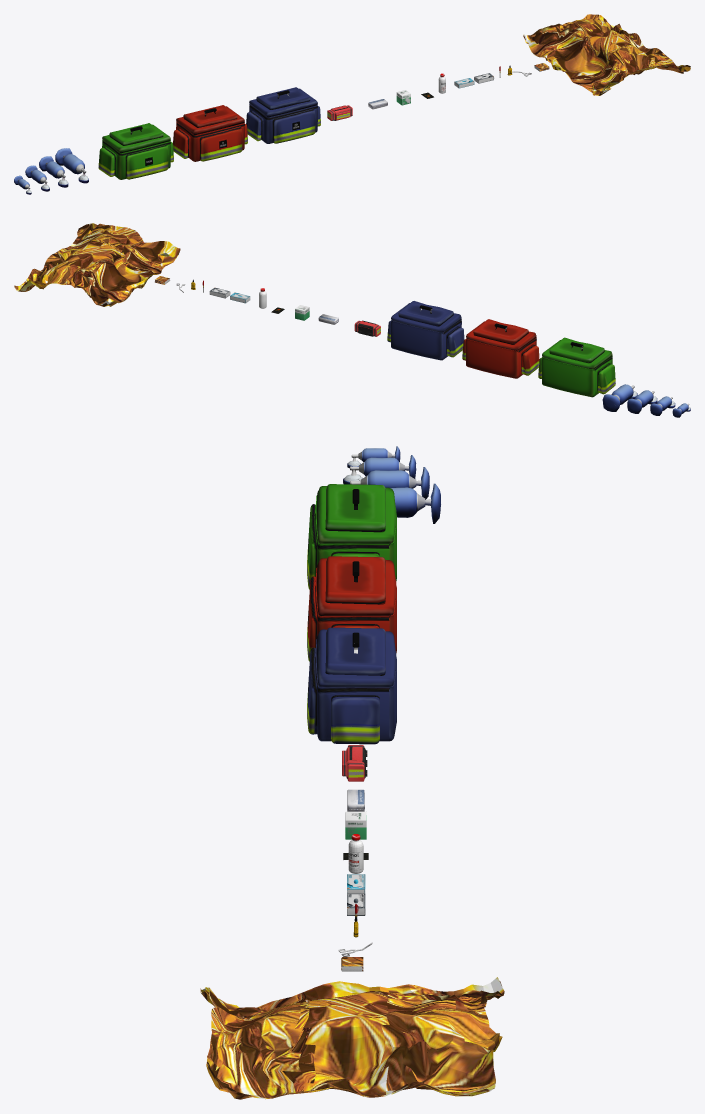
The model's file is EMSEquipment2.fbx.
The picture shows the model from 3 angles, top to bottom: view 1: azimuth 30°, elevation 25°; view 2: azimuth 150°, elevation 25°; view 3: azimuth 270°, elevation 25°; orthographic projection. The views are drawn at different scales.
Visible parts, largest first — view 1: Blanket_Expanded, bolsillo frontal.002, bolsillo frontal.001, bolsillo frontal.003, tapa.001, tapa.002, tapa, cuerpo.001, cuerpo; view 2: Blanket_Expanded, bolsillo frontal.001, bolsillo frontal.002, bolsillo frontal.003, tapa.001, tapa, tapa.002, cuerpo.001, cuerpo; view 3: Blanket_Expanded, bolsillo frontal.003, tapa, tapa.002, tapa.001, bolsillo frontal.002, bolsillo frontal.001, cuerpo.001, cuerpo.
Part boxes in pixels (x1=…): Blanket_Expanded: x1=523, y1=14, x2=690, y2=95; bolsillo frontal.002: x1=98, y1=140, x2=173, y2=179; bolsillo frontal.001: x1=173, y1=121, x2=247, y2=161; bolsillo frontal.003: x1=246, y1=104, x2=320, y2=143; tapa.001: x1=176, y1=105, x2=244, y2=134; tapa.002: x1=249, y1=87, x2=317, y2=117; tapa: x1=102, y1=123, x2=170, y2=152; cuerpo.001: x1=55, y1=148, x2=86, y2=174; cuerpo: x1=39, y1=156, x2=65, y2=178; Blanket_Expanded: x1=14, y1=223, x2=180, y2=306; bolsillo frontal.001: x1=462, y1=337, x2=539, y2=378; bolsillo frontal.002: x1=538, y1=355, x2=615, y2=397; bolsillo frontal.003: x1=387, y1=319, x2=464, y2=360; tapa.001: x1=466, y1=319, x2=536, y2=350; tapa: x1=542, y1=337, x2=612, y2=369; tapa.002: x1=391, y1=301, x2=461, y2=332; cuerpo.001: x1=602, y1=384, x2=634, y2=411; cuerpo: x1=627, y1=390, x2=654, y2=413; Blanket_Expanded: x1=200, y1=977, x2=504, y2=1099; bolsillo frontal.003: x1=307, y1=639, x2=396, y2=744; tapa: x1=316, y1=484, x2=395, y2=543; tapa.002: x1=316, y1=627, x2=395, y2=687; tapa.001: x1=316, y1=556, x2=395, y2=615; bolsillo frontal.002: x1=307, y1=495, x2=396, y2=589; bolsillo frontal.001: x1=307, y1=567, x2=396, y2=661; cuerpo.001: x1=390, y1=483, x2=440, y2=523; cuerpo: x1=350, y1=467, x2=429, y2=499.
Bounding box in the file's own units: 875 × 68.94 × 182.
